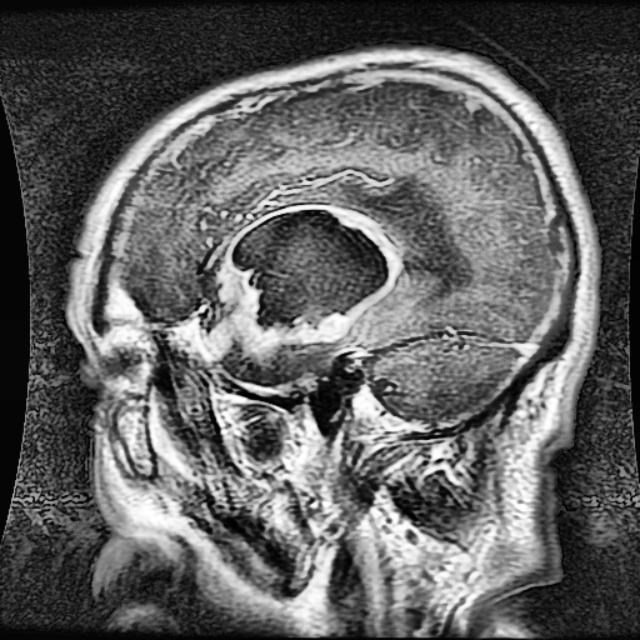Meningioma: (204, 200, 404, 359)
